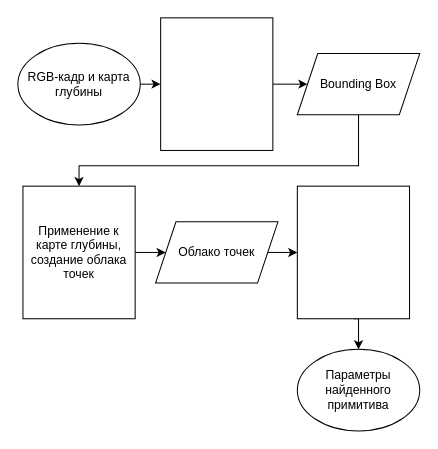
This 438x449 diagram has some shape labels left out. Each missing label, with the centre of its shape:
"SSD-MobileNet-V2" belongs at (216,83).
"Эволюционный алгоритм" belongs at (353,252).
